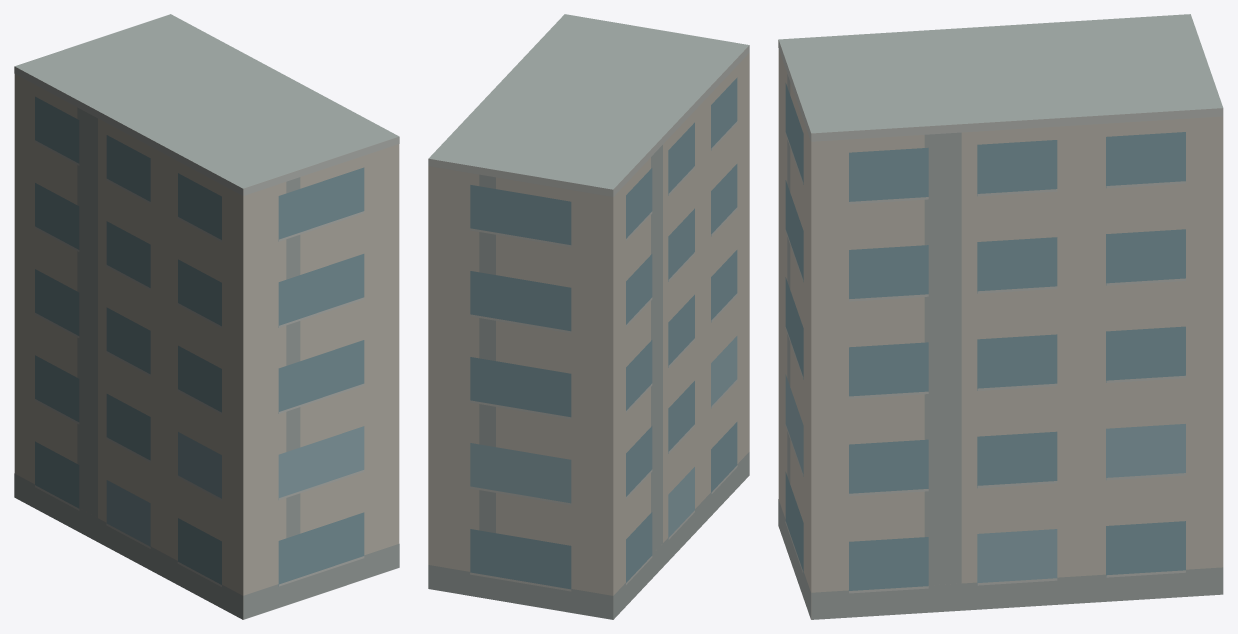
File: survey-upis-32718681.glb
3 views of the same model, side by side, from view 1: azimuth 30°, elevation 25°; view 2: azimuth 150°, elevation 25°; view 3: azimuth 270°, elevation 25° (orthographic). The views are drawn at different scales.
Parts seen in each view (by area): view 1: survey-upis-32718681.tmp; view 2: survey-upis-32718681.tmp; view 3: survey-upis-32718681.tmp.
Part boxes in pixels (x1=…): survey-upis-32718681.tmp: x1=14, y1=14, x2=399, y2=619; survey-upis-32718681.tmp: x1=428, y1=14, x2=749, y2=619; survey-upis-32718681.tmp: x1=778, y1=14, x2=1223, y2=619.
Size of the model in its own units: 7.48 by 14.19 by 11.77.
